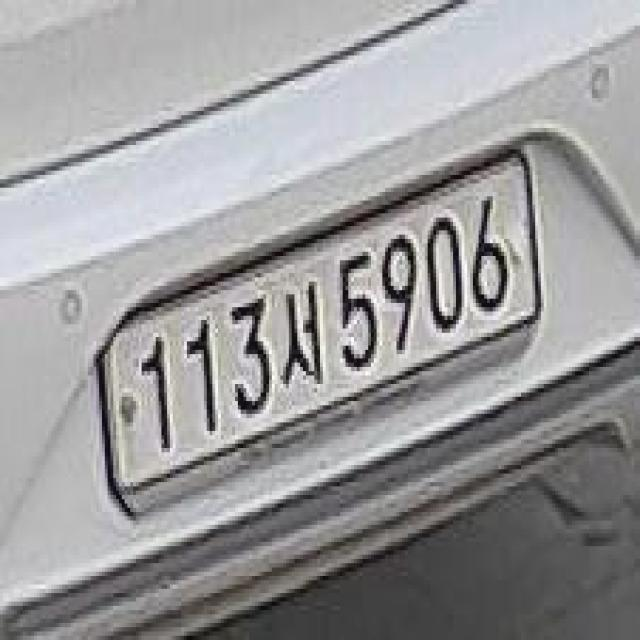illegal_plate: (97, 147, 547, 522)
